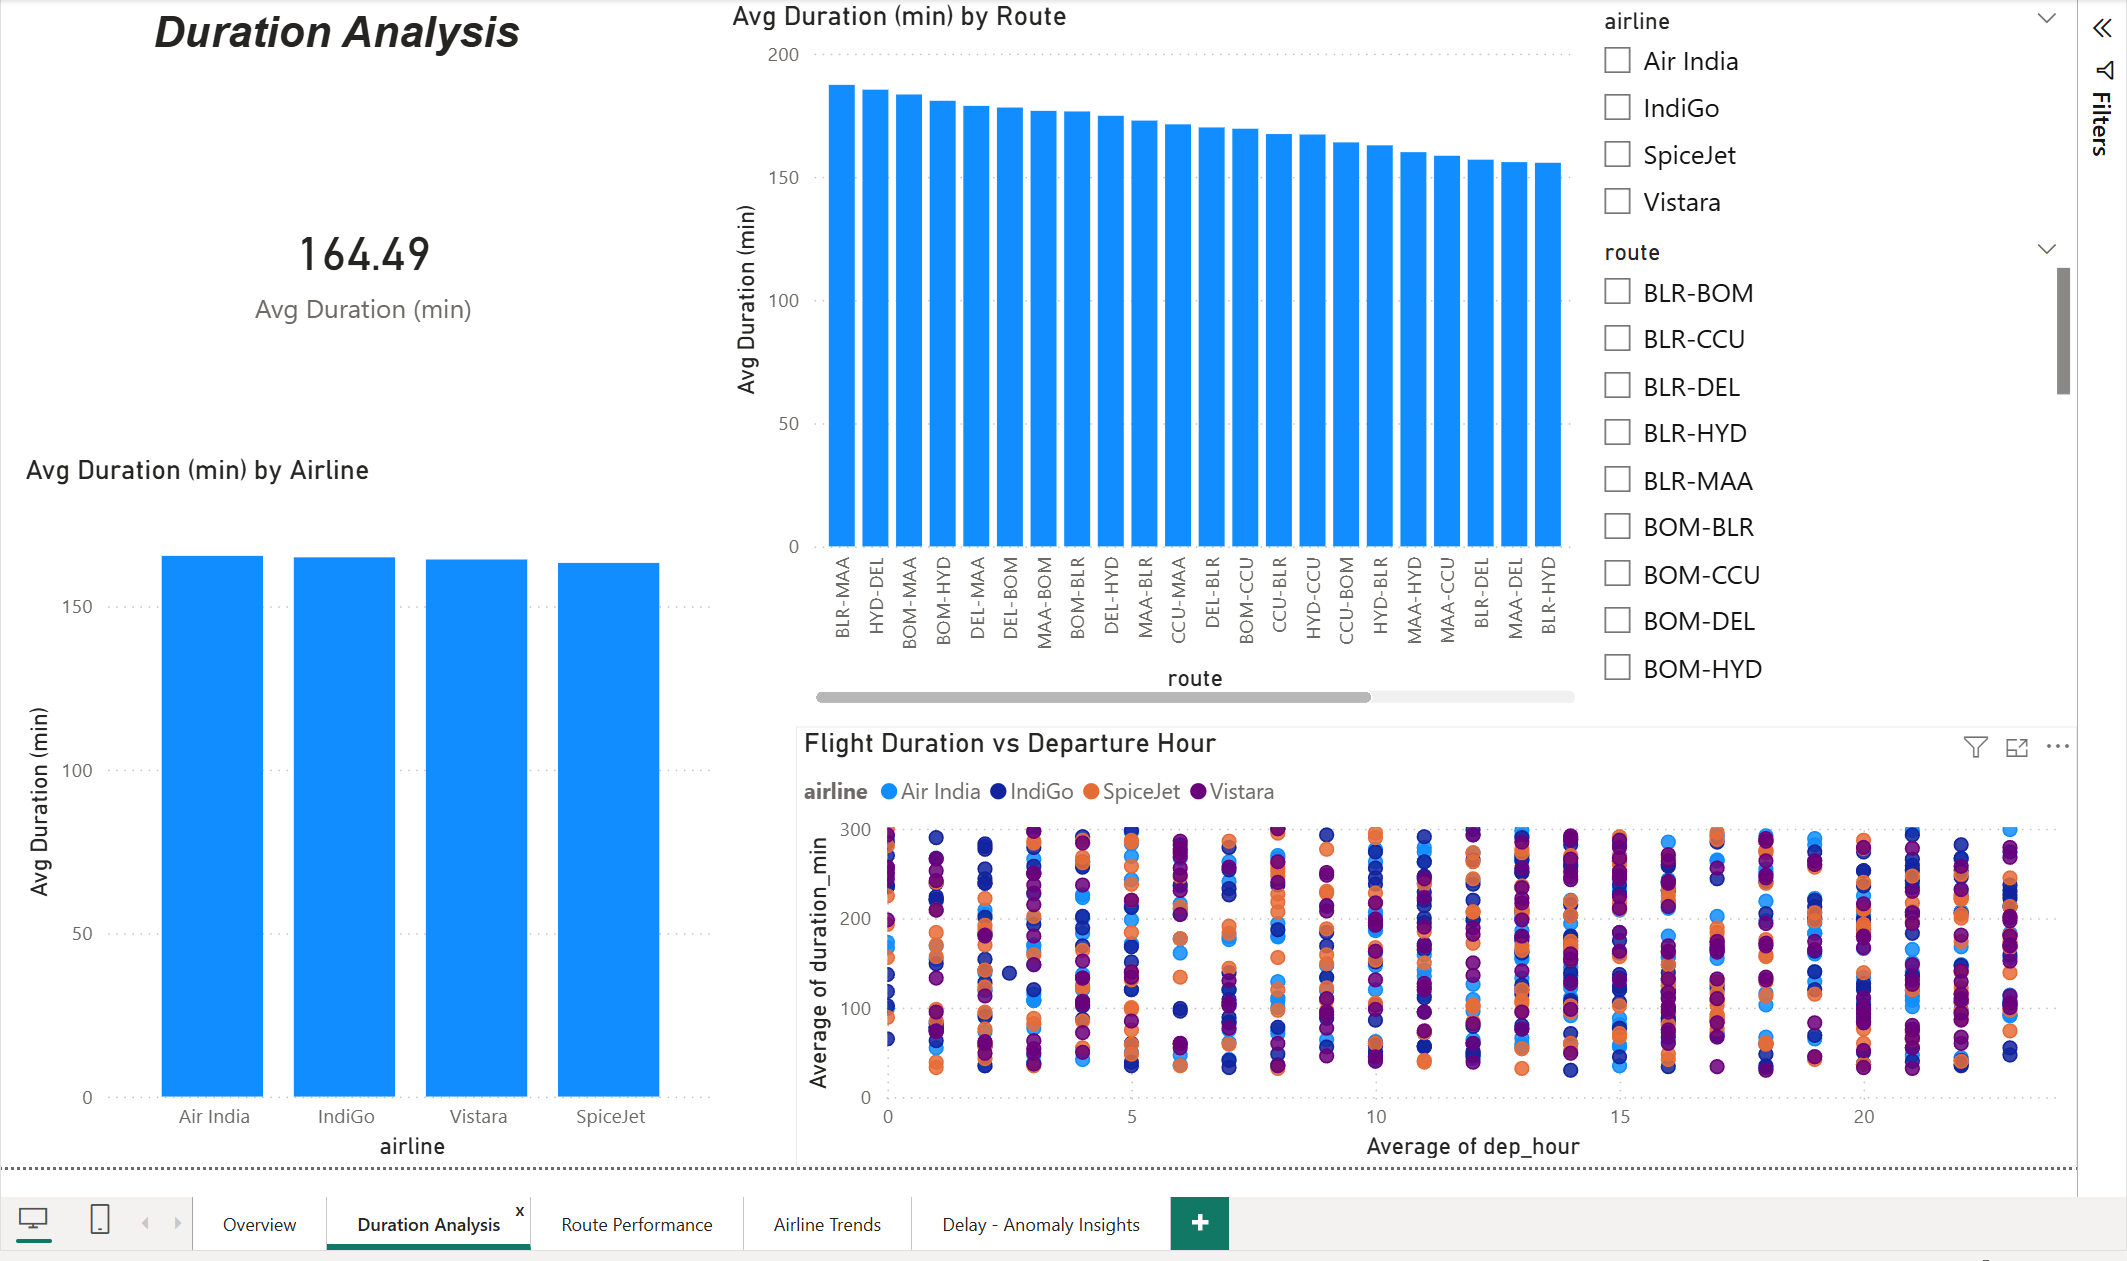

The dashboard page shown, as its layout file describes it:
{"tool":"powerbi","page":{"name":"Duration Analysis","canvas":[1280,720],"ordinal":1},"visuals":[{"type":"clusteredColumnChart","title":"Avg Duration (min) by Airline","fields":{"Category":["flights_cleaned.airline"],"Y":["flights_cleaned.Avg Duration (min)"]},"box":[10.4,280.4,435.7,439.2],"z":0},{"type":"clusteredColumnChart","title":"Avg Duration (min) by Route","fields":{"Category":["flights_cleaned.route"],"Y":["flights_cleaned.Avg Duration (min)"]},"box":[446.1,0,529.5,439.2],"z":1000},{"type":"scatterChart","title":"Flight Duration vs Departure Hour","fields":{"X":["Avg(flights_cleaned.dep_hour)"],"Y":["Avg(flights_cleaned.duration_min)"],"Series":["flights_cleaned.airline"],"Category":["flights_cleaned.flight_id"]},"box":[490.1,448.4,790.3,271.1],"z":2000},{"type":"slicer","fields":{"Values":["flights_cleaned.airline"]},"box":[975.7,0,304.7,245.7],"z":3000},{"type":"slicer","fields":{"Values":["flights_cleaned.route"]},"box":[975.7,142.5,304.7,288.5],"z":4000},{"type":"card","fields":{"Values":["flights_cleaned.Avg Duration (min)"]},"box":[0,51,446.1,229.4],"z":5000},{"type":"textbox","box":[0,0,446.1,64.9],"z":6000}]}

Visuals, with their boxes on the page's 1280x720 design canvas (x1, y1, x2, y2). These are canvas units, not pixel positions in the 2127x1261 screenshot, which may show the page scaled, cropped or inside an application window:
"Avg Duration (min) by Airline" clusteredColumnChart: region(10, 280, 446, 720)
"Avg Duration (min) by Route" clusteredColumnChart: region(446, 0, 976, 439)
"Flight Duration vs Departure Hour" scatterChart: region(490, 448, 1280, 720)
slicer - flights_cleaned.airline: region(976, 0, 1280, 246)
slicer - flights_cleaned.route: region(976, 142, 1280, 431)
card - flights_cleaned.Avg Duration (min): region(0, 51, 446, 280)
textbox: region(0, 0, 446, 65)
